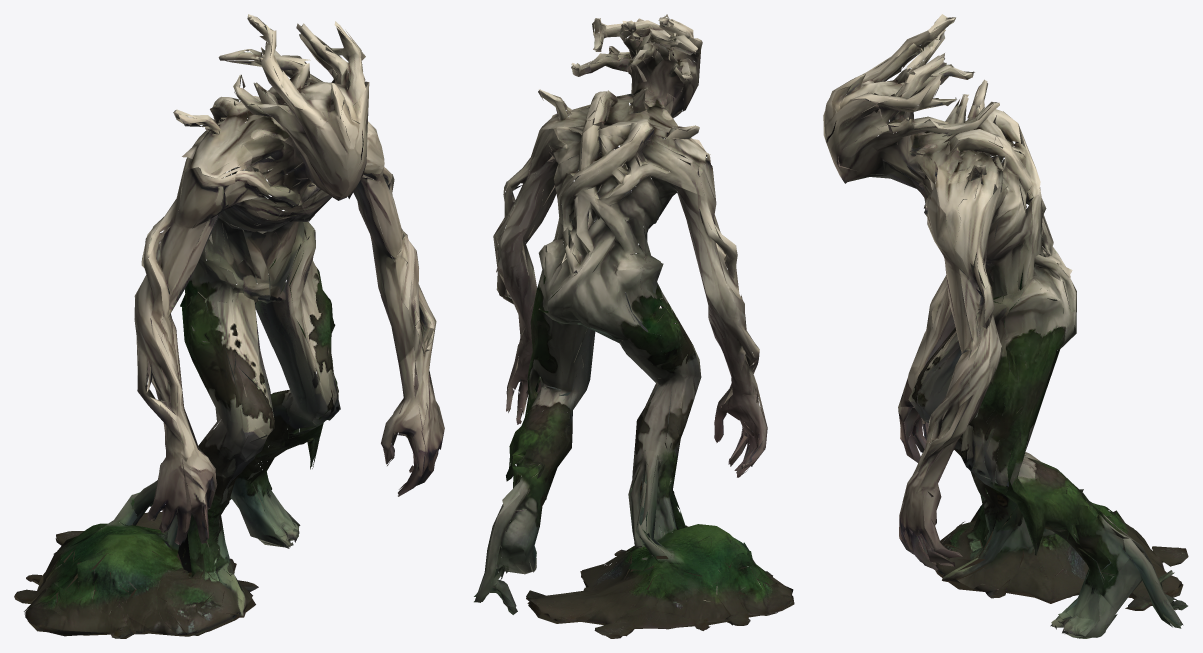
Rendered from mesh_rootling_a.glb.
The picture shows the model from 3 angles, left to right: view 1: azimuth 30°, elevation 25°; view 2: azimuth 150°, elevation 25°; view 3: azimuth 270°, elevation 25°; orthographic projection. The views are drawn at different scales.
Visible parts, largest first — view 1: mesh_rootling_a__Mesh_0; view 2: mesh_rootling_a__Mesh_0; view 3: mesh_rootling_a__Mesh_0.
Part boxes in pixels (x1,y1,x2,y2): mesh_rootling_a__Mesh_0: (14, 14, 444, 638); mesh_rootling_a__Mesh_0: (474, 14, 794, 638); mesh_rootling_a__Mesh_0: (823, 14, 1188, 638).
Size of the model in its own units: 3.73 by 5.8 by 3.35.
Materials: 1 (1 with a texture image).
